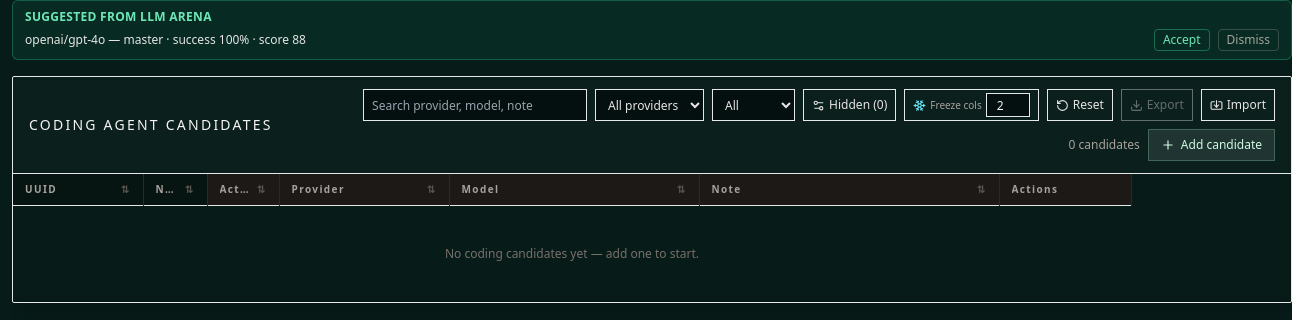
Test: Arena → Coding Candidates promotion pipeline (Suite E4–E7) › E4: accepting a suggestion creates a provenance-carrying enabled row
Click the button "Accept" at (1182, 40), box [1154,29,1210,51]
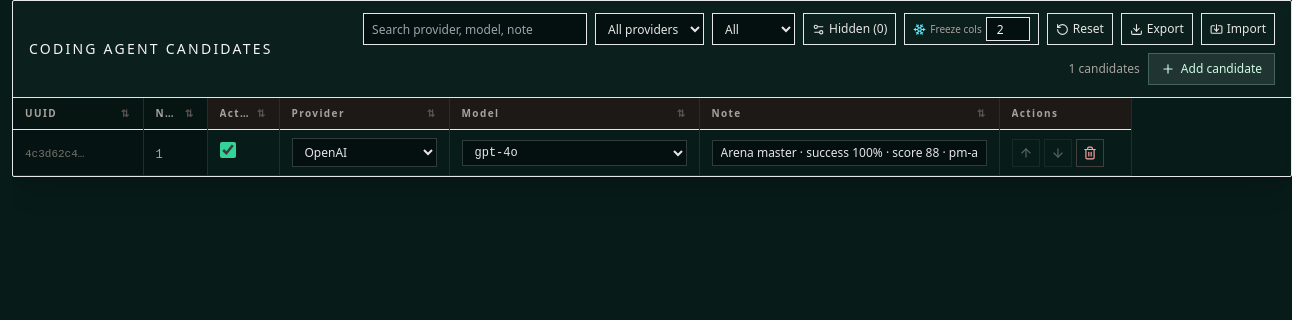
Expected: the element with test id "coding-suggestions-panel" is gone
